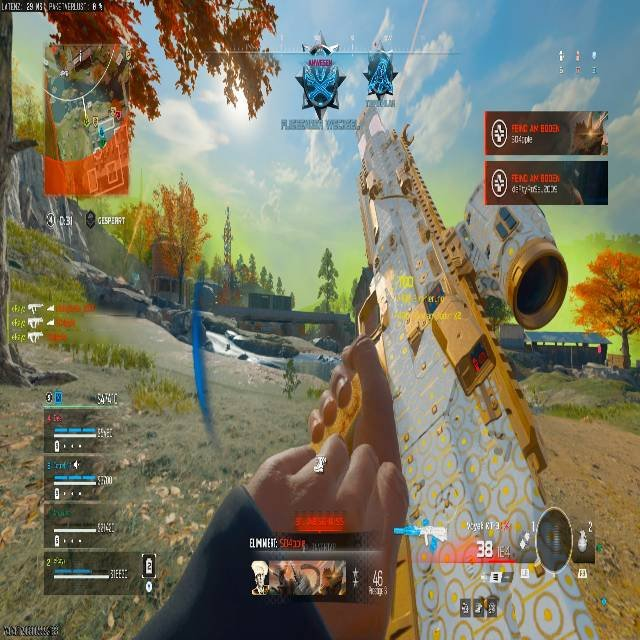player: (295, 46, 346, 119), (367, 56, 397, 100)
